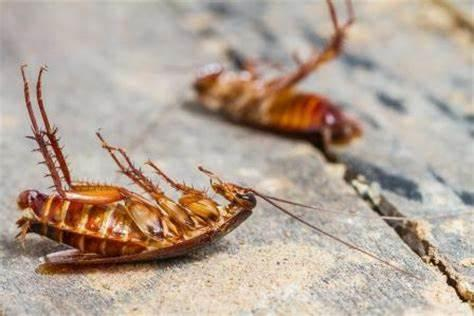cockroach: (11, 150, 258, 274), (188, 63, 358, 146)
